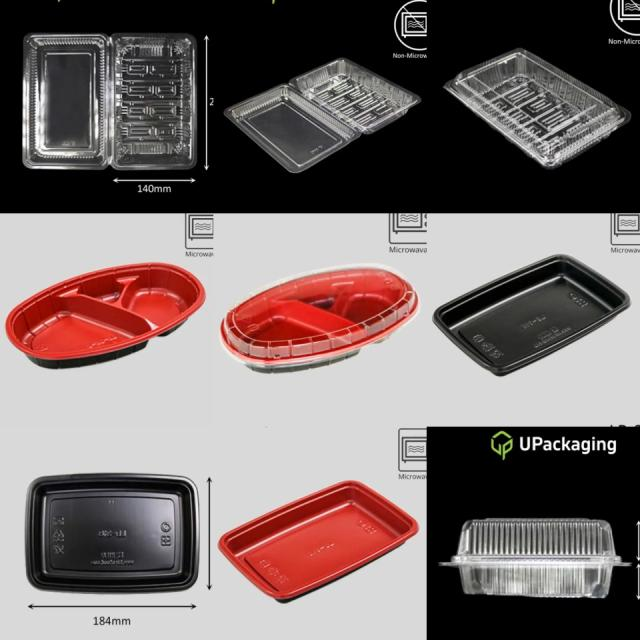Single-Use-Plastic: (219, 480, 419, 601), (432, 255, 630, 375), (22, 34, 196, 170), (225, 59, 420, 172), (445, 49, 630, 168), (6, 262, 205, 368), (221, 266, 419, 371), (25, 474, 199, 592), (440, 518, 628, 598)
